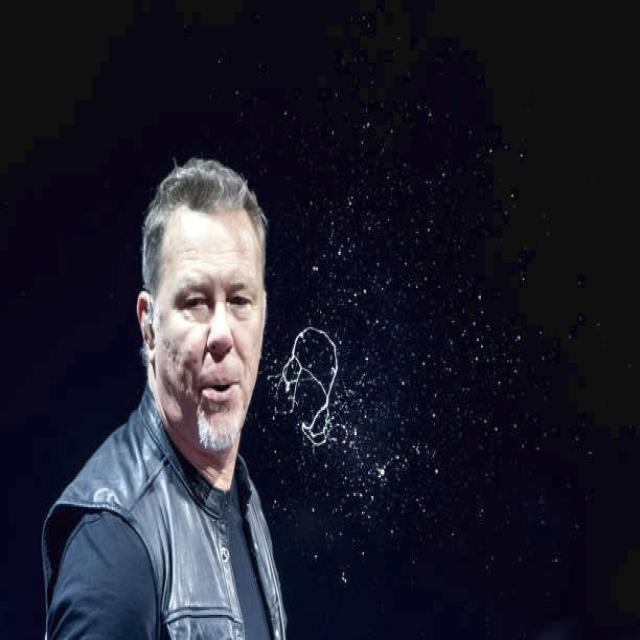Spitting: (137, 157, 307, 528)
